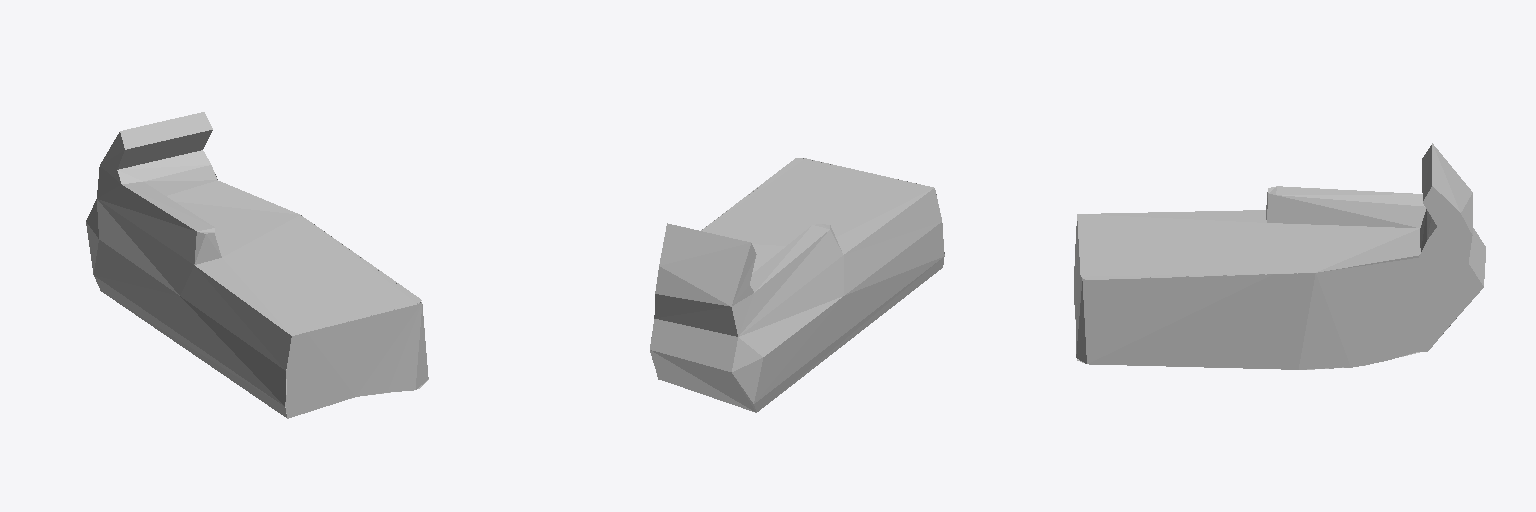
Rendered from BrokenBasePart1.obj.
The picture shows the model from 3 angles: view 1: azimuth 30°, elevation 25°; view 2: azimuth 150°, elevation 25°; view 3: azimuth 270°, elevation 25°; orthographic projection.
Visible parts, largest first — view 1: Chassis-Lvl1-Base.006_Chassis-Lvl1_Cube.000_cell.004_Chassis-Lvl; view 2: Chassis-Lvl1-Base.006_Chassis-Lvl1_Cube.000_cell.004_Chassis-Lvl; view 3: Chassis-Lvl1-Base.006_Chassis-Lvl1_Cube.000_cell.004_Chassis-Lvl.
Boxes of the visible parts, box(x1,y1,x2,y2) form: Chassis-Lvl1-Base.006_Chassis-Lvl1_Cube.000_cell.004_Chassis-Lvl: box(86, 112, 428, 418); Chassis-Lvl1-Base.006_Chassis-Lvl1_Cube.000_cell.004_Chassis-Lvl: box(650, 158, 944, 412); Chassis-Lvl1-Base.006_Chassis-Lvl1_Cube.000_cell.004_Chassis-Lvl: box(1074, 143, 1485, 369).
Size of the model in its own units: 1.59 by 1.67 by 3.73.